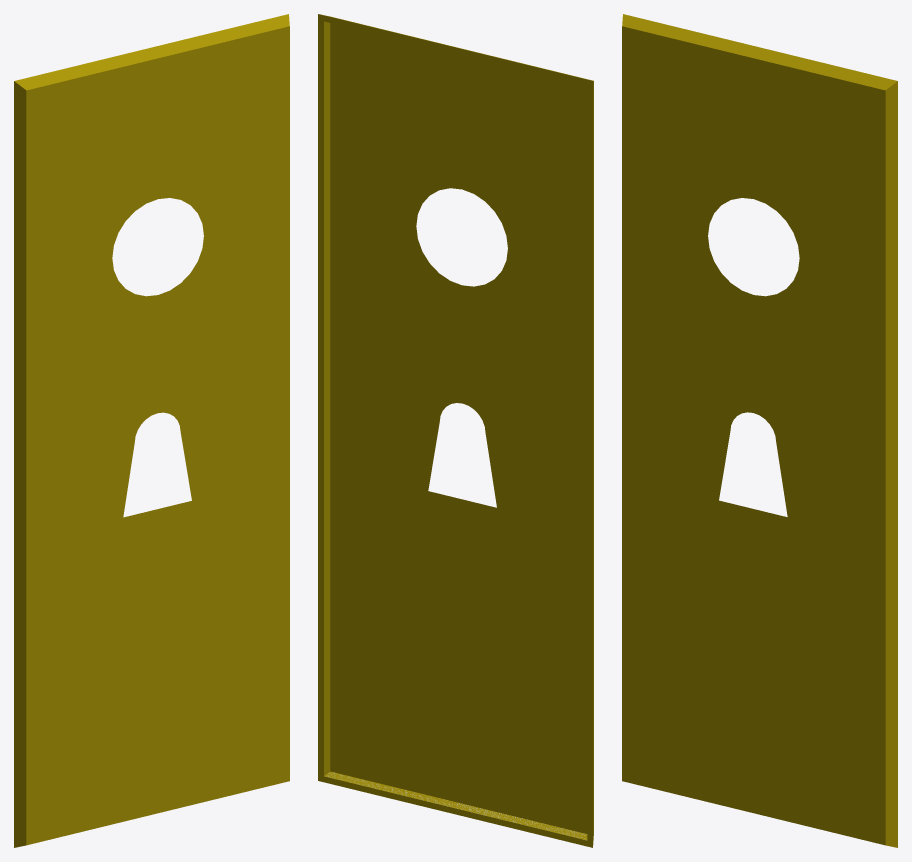
Rendered from 9960025-lock-right.dae.
3 views of the same model, side by side, from view 1: azimuth 30°, elevation 25°; view 2: azimuth 150°, elevation 25°; view 3: azimuth 330°, elevation 25° (orthographic).
Visible parts, largest first — view 1: group_0.030; view 2: group_0.030, group_0.031; view 3: group_0.030.
Boxes of the visible parts, x1=… form: group_0.030: x1=14, y1=14, x2=289, y2=847; group_0.030: x1=318, y1=14, x2=593, y2=847; group_0.031: x1=324, y1=771, x2=587, y2=840; group_0.030: x1=622, y1=14, x2=897, y2=847.
Size of the model in its own units: 0.0381 by 0.00159 by 0.1016.
